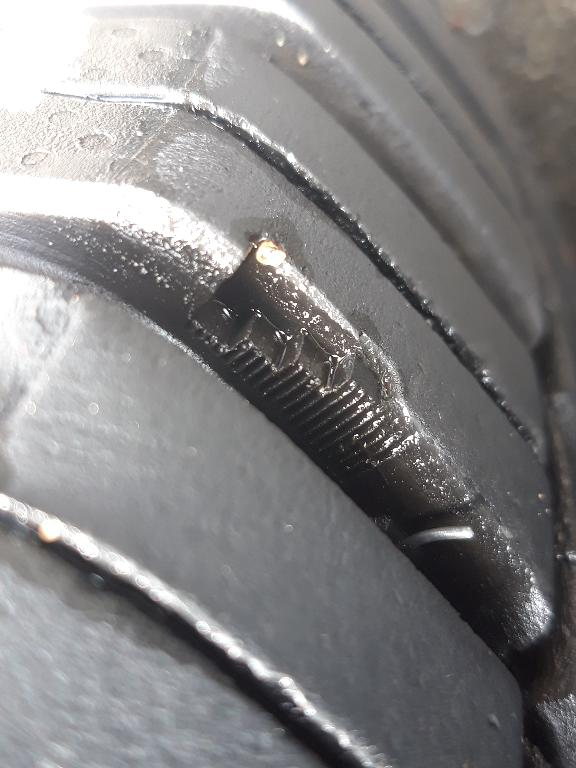temoin:80: (176, 227, 432, 489)
